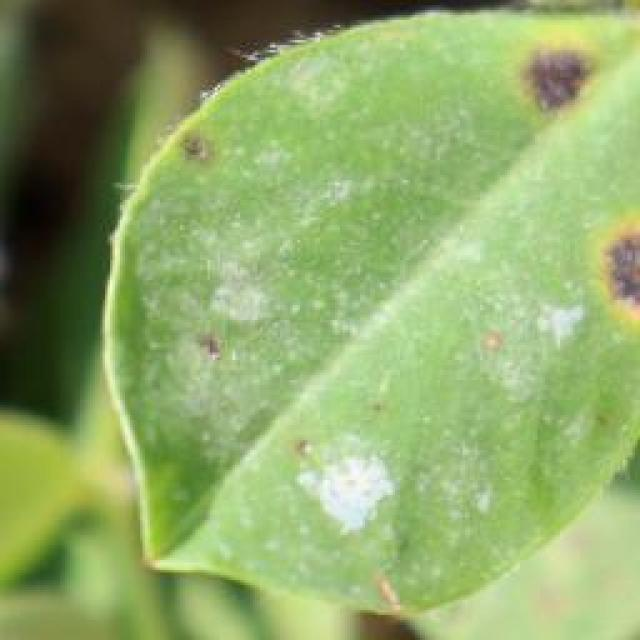Sigatoka: (488, 13, 616, 119), (563, 197, 640, 345), (430, 320, 552, 398), (273, 432, 361, 520), (180, 323, 237, 362), (168, 137, 217, 173)
